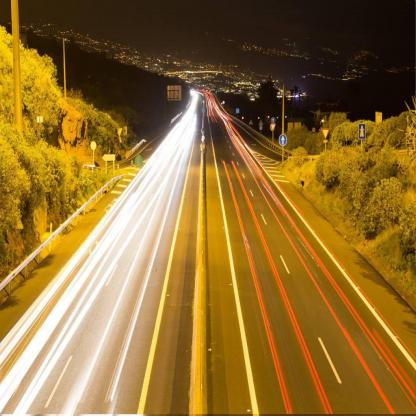other: (64, 256, 158, 348), (178, 86, 230, 146)
